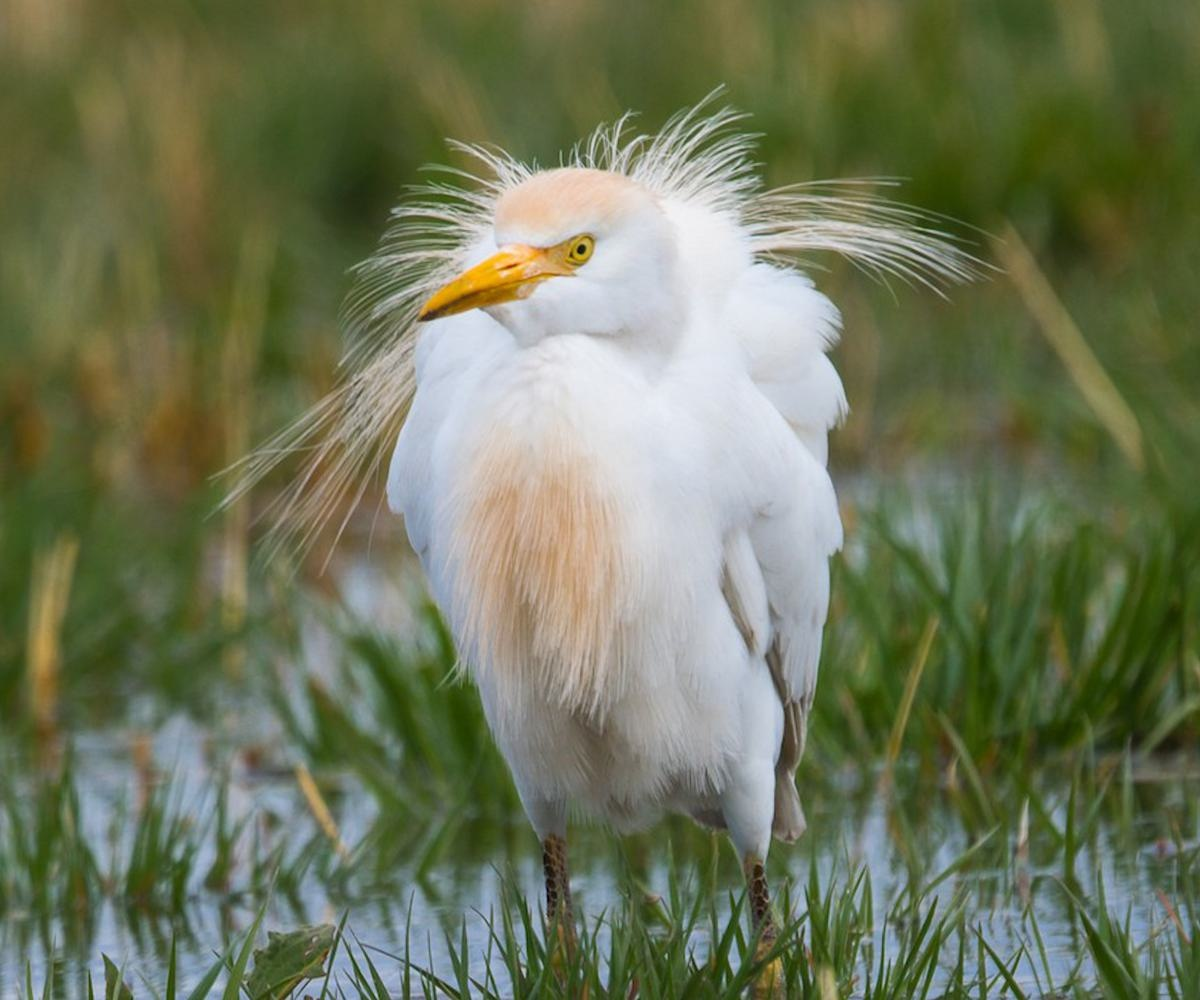egret: (276, 125, 921, 936)
